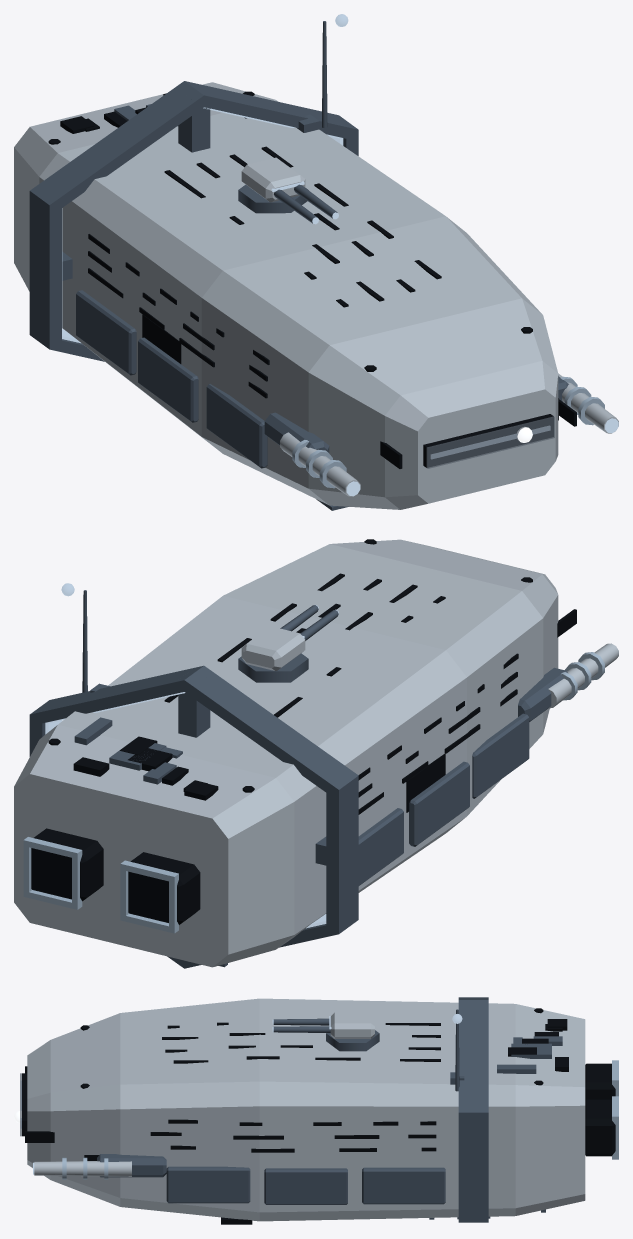
Rendered from paragraf-wykonawcy-trade-14-lod0.glb.
3 views of the same model, one above another, from view 1: azimuth 30°, elevation 25°; view 2: azimuth 150°, elevation 25°; view 3: azimuth 270°, elevation 25° (orthographic). The views are drawn at different scales.
Size of the model in its own units: 10.05 by 10.45 by 22.32.
